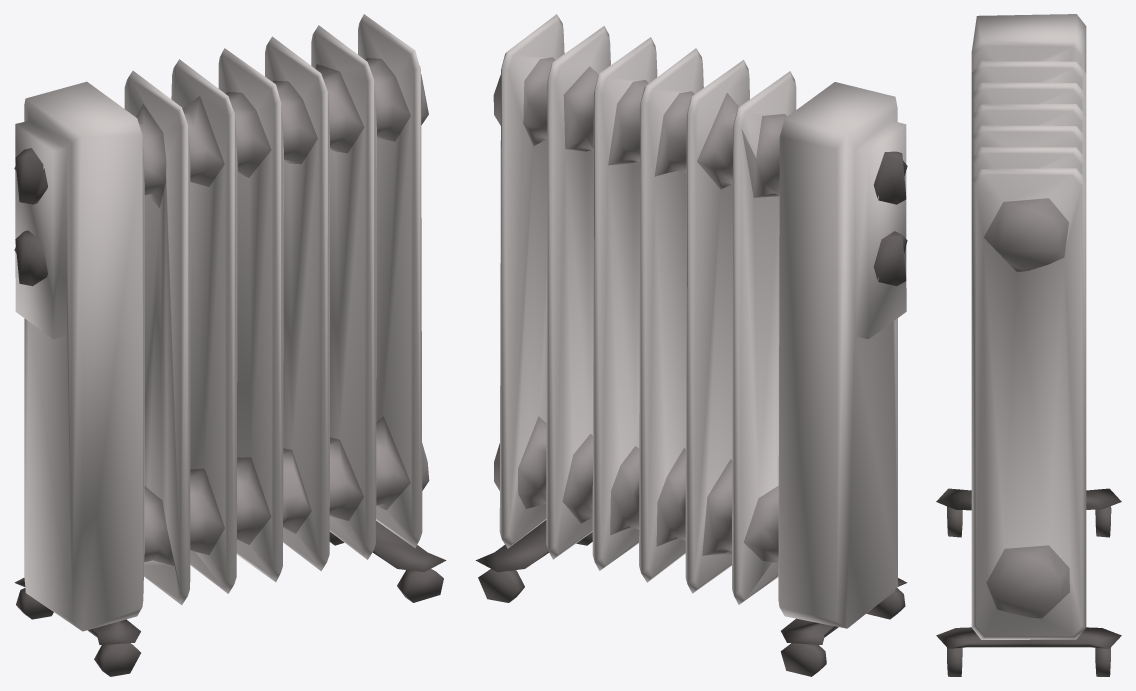
File: HeaterOldRadiator.glb
3 views of the same model, side by side, from view 1: azimuth 30°, elevation 25°; view 2: azimuth 150°, elevation 25°; view 3: azimuth 270°, elevation 25° (orthographic). The views are drawn at different scales.
Parts seen in each view (by area): view 1: HeaterOldRadiator; view 2: HeaterOldRadiator; view 3: HeaterOldRadiator.
Boxes of the visible parts, left/top/right/bottom form: HeaterOldRadiator: left=14, top=14, right=446, bottom=676; HeaterOldRadiator: left=475, top=14, right=907, bottom=676; HeaterOldRadiator: left=936, top=14, right=1121, bottom=676.
Size of what is drawn, in the model's own units: 0.6605 by 0.8563 by 0.2844.
1 material, 1 textured.
